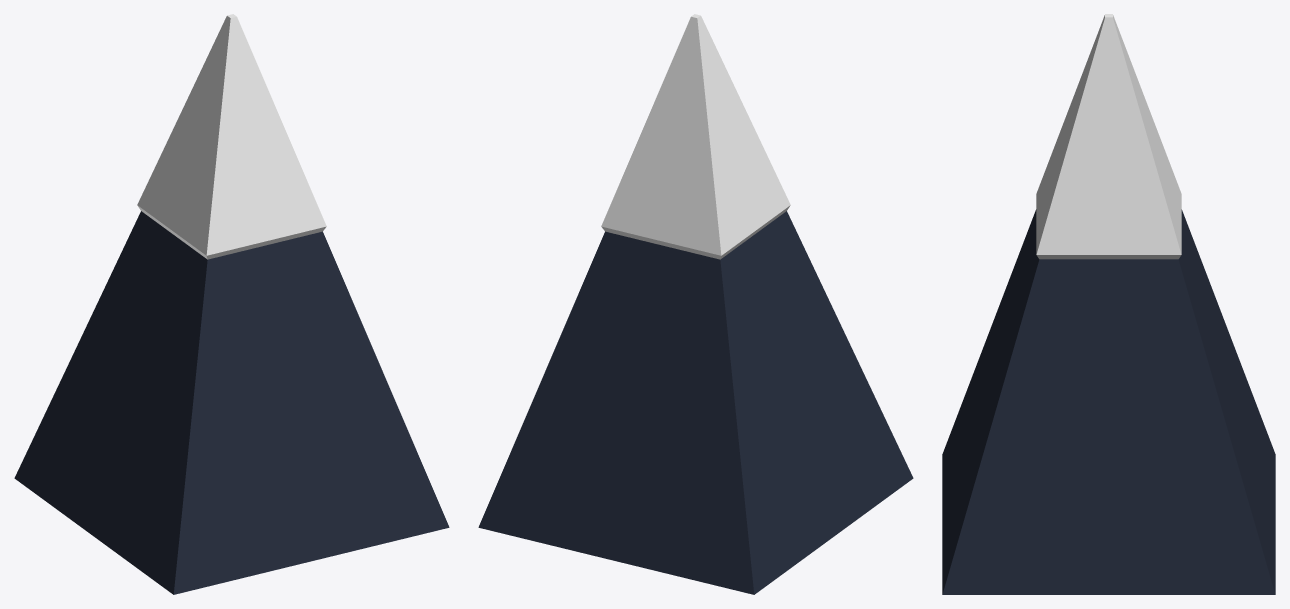
Rendered from WinterRockC_02.fbx.
3 views of the same model, side by side, from view 1: azimuth 30°, elevation 25°; view 2: azimuth 150°, elevation 25°; view 3: azimuth 270°, elevation 25° (orthographic). The views are drawn at different scales.
Visible parts, largest first — view 1: WinterRockC_02; view 2: WinterRockC_02; view 3: WinterRockC_02.
Part boxes in pixels (bbox=[...]): WinterRockC_02: bbox=[14, 14, 449, 594]; WinterRockC_02: bbox=[478, 14, 913, 594]; WinterRockC_02: bbox=[942, 14, 1275, 594].
Bounding box in the file's own units: 0.6416 × 1.08 × 0.6417.
